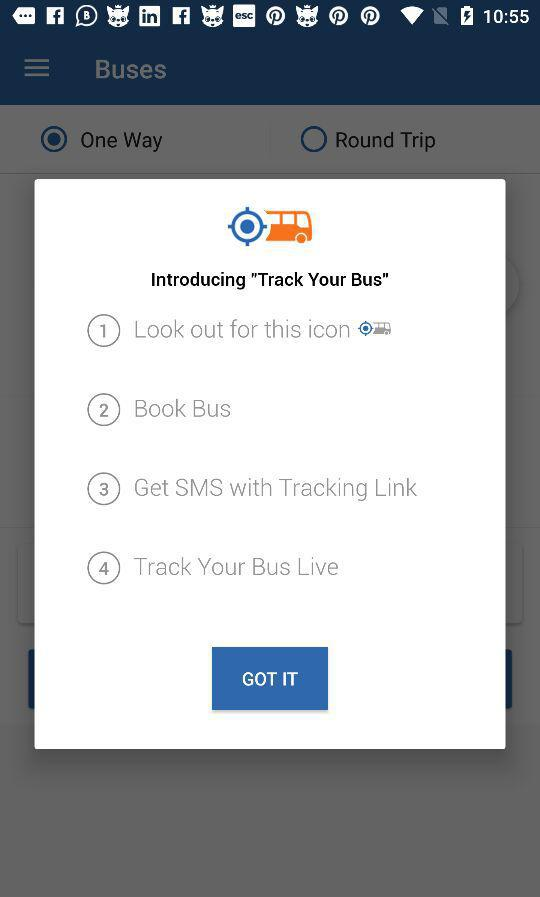CheckedTextView: (301, 127, 436, 154), (42, 125, 164, 154)
Icon: (25, 59, 51, 78)
Image: (227, 206, 314, 248), (87, 314, 122, 348), (87, 393, 122, 427), (87, 551, 122, 585), (88, 472, 122, 506)
Modal: (34, 179, 506, 750)
Text: (134, 477, 419, 503), (135, 318, 393, 341), (151, 271, 390, 292), (133, 556, 340, 578), (135, 397, 232, 419), (336, 132, 436, 153), (81, 133, 163, 154), (96, 60, 167, 81)
TextButton: (212, 646, 330, 712)
UpperTaskBar: (1, 1, 540, 33)
